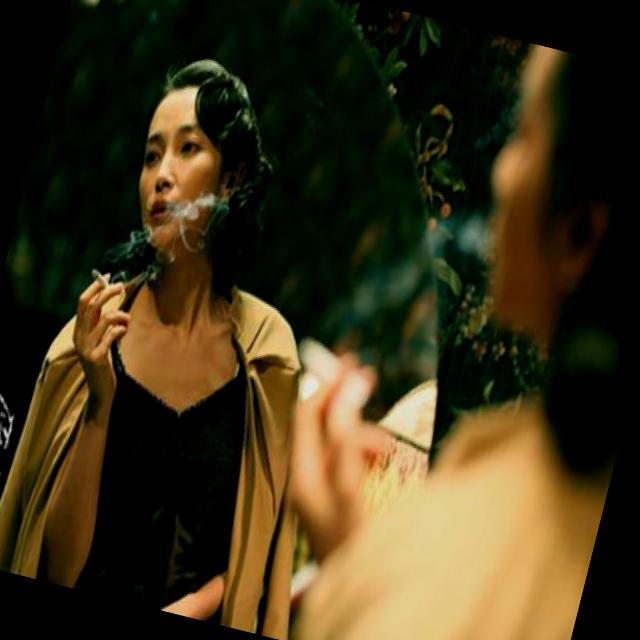cigarette: (82, 259, 114, 290)
